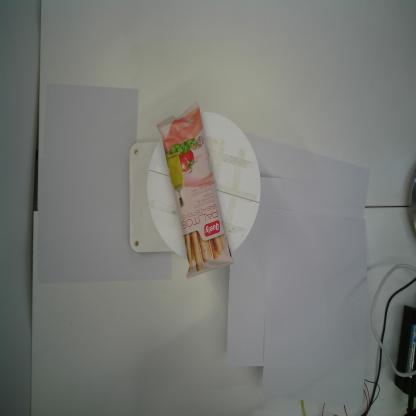Dessert: (155, 101, 235, 280)
